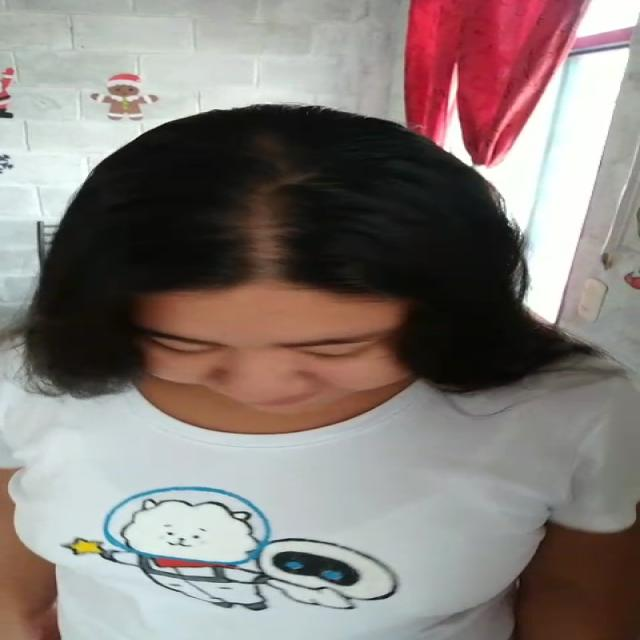9_cabeza_baja: (47, 106, 527, 416)
